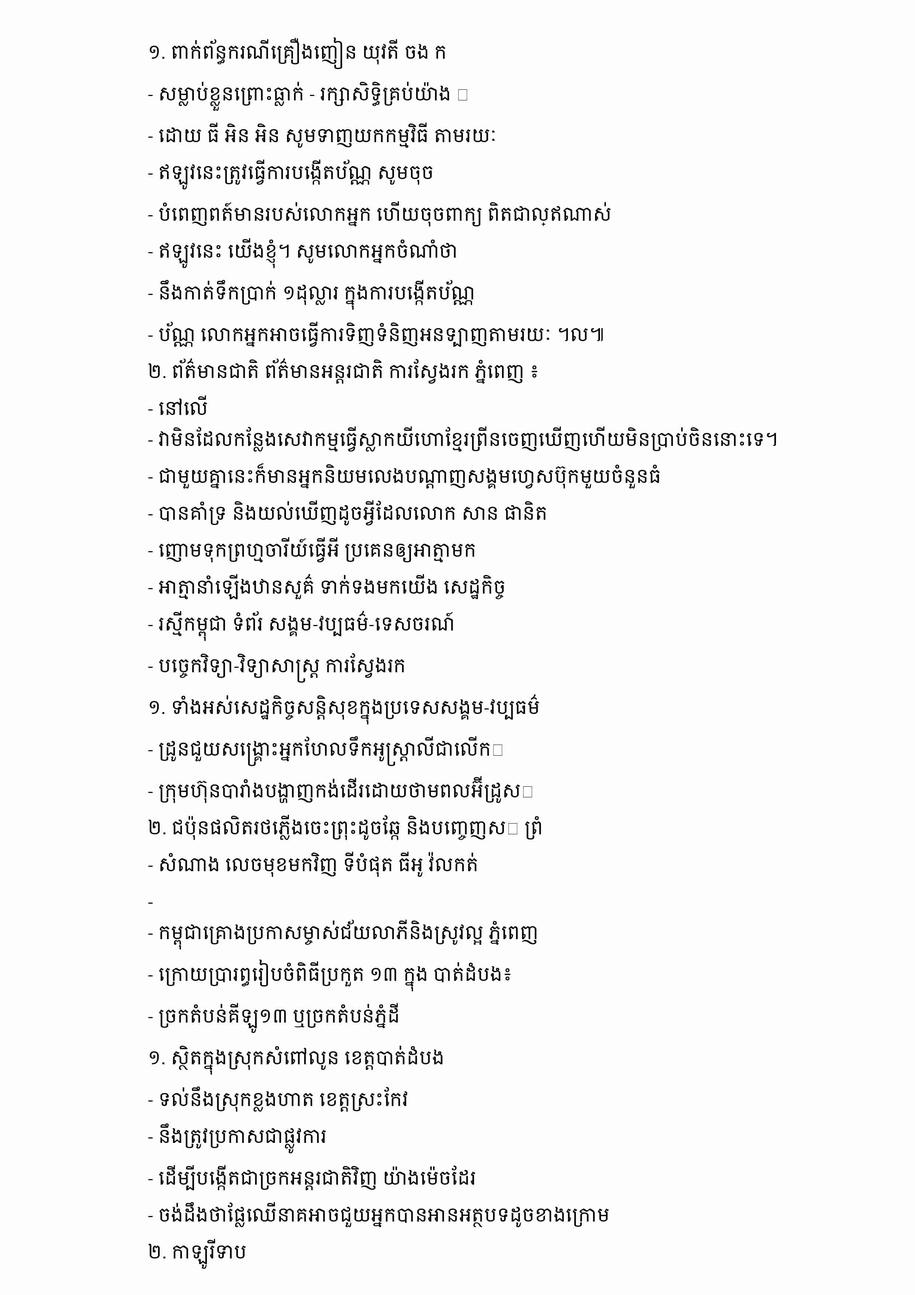text: (148, 426, 783, 452), (148, 463, 666, 489), (148, 694, 545, 725), (148, 201, 617, 227), (148, 959, 517, 992), (148, 920, 543, 950), (148, 1202, 615, 1227), (148, 322, 610, 347), (148, 736, 509, 766), (148, 776, 539, 803), (148, 500, 552, 526), (148, 358, 544, 384), (148, 815, 548, 840), (148, 280, 480, 310), (148, 37, 452, 69), (148, 82, 474, 111), (148, 238, 463, 268), (148, 574, 511, 600), (148, 611, 460, 641), (148, 1045, 449, 1075), (148, 159, 439, 190), (148, 123, 503, 148), (148, 537, 481, 563), (148, 1165, 481, 1191), (148, 852, 483, 877), (148, 653, 411, 683), (148, 1003, 405, 1033), (148, 1086, 414, 1112), (148, 1123, 332, 1154), (148, 1239, 252, 1269), (148, 395, 213, 415), (148, 903, 158, 908)
